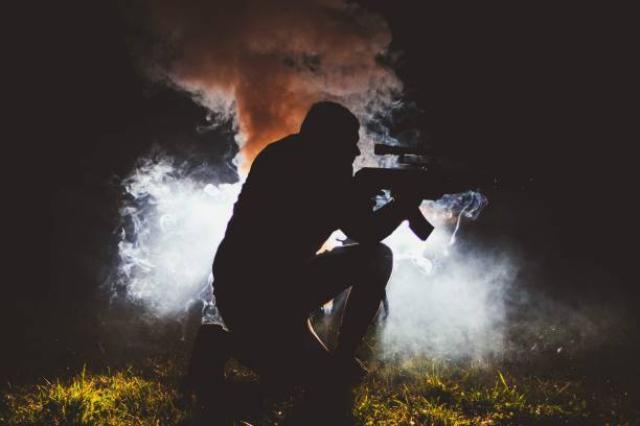other: (190, 100, 410, 392)
